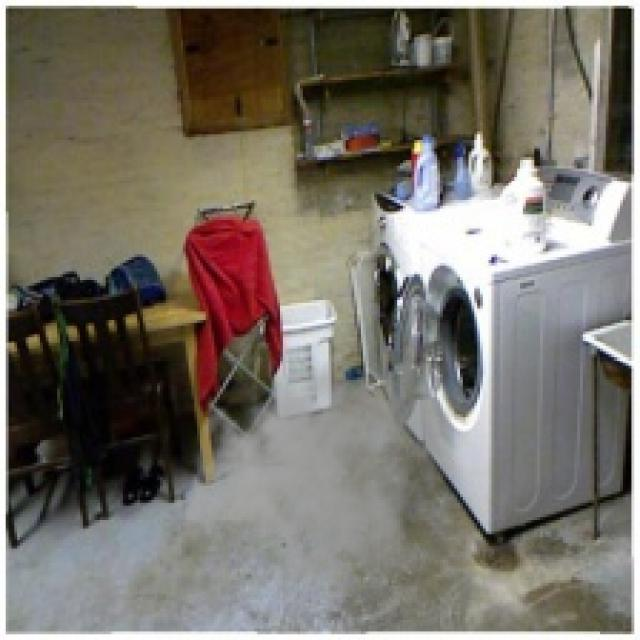smoke: (183, 337, 457, 597)
